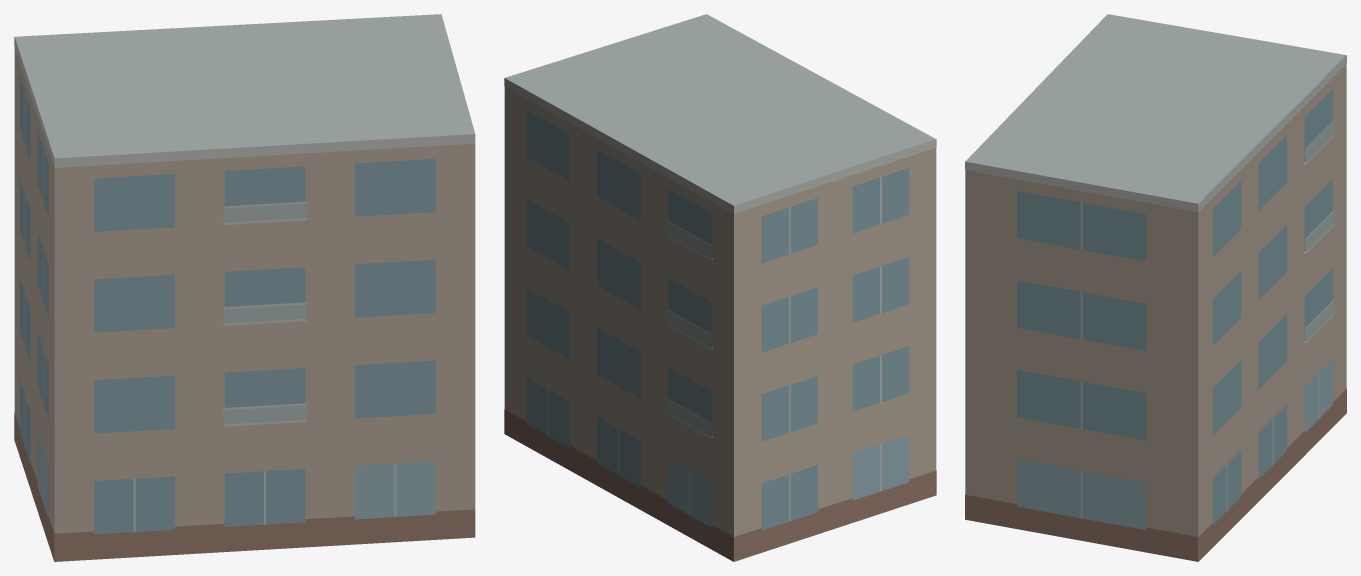
Rendered from survey-upis-32537546.glb.
3 renders of one model, left to right at view 1: azimuth 30°, elevation 25°; view 2: azimuth 150°, elevation 25°; view 3: azimuth 270°, elevation 25°, orthographic. The views are drawn at different scales.
Parts seen in each view (by area): view 1: survey-upis-32537546.tmp; view 2: survey-upis-32537546.tmp; view 3: survey-upis-32537546.tmp.
Boxes of the visible parts, left/top/right/bottom form: survey-upis-32537546.tmp: left=14, top=14, right=475, bottom=561; survey-upis-32537546.tmp: left=504, top=14, right=936, bottom=561; survey-upis-32537546.tmp: left=965, top=14, right=1346, bottom=561.
Bounding box in the file's own units: 11.78 × 10.35 × 10.01.
